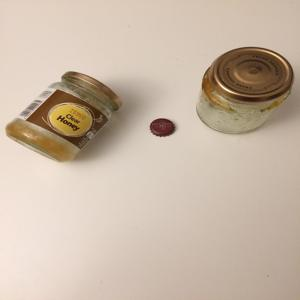glass: (6, 85, 116, 164), (193, 78, 292, 141)
metal: (207, 40, 296, 105), (55, 61, 128, 110), (145, 113, 175, 140)
